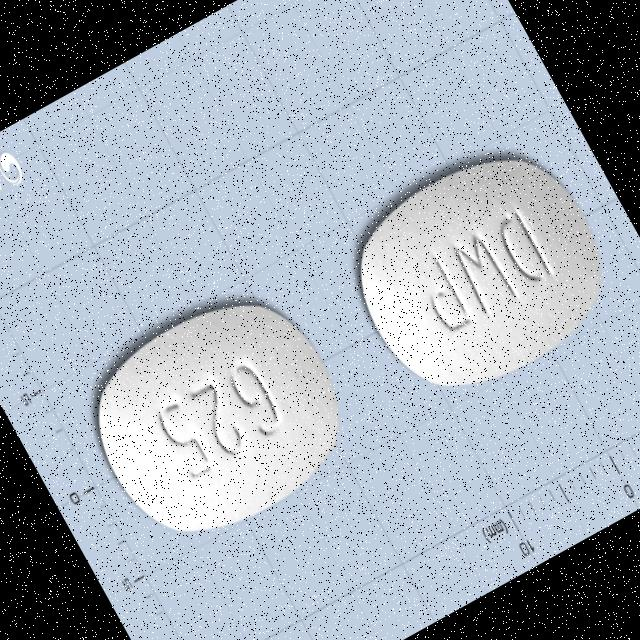Amoxicle: (321, 118, 639, 426), (58, 265, 374, 572)
